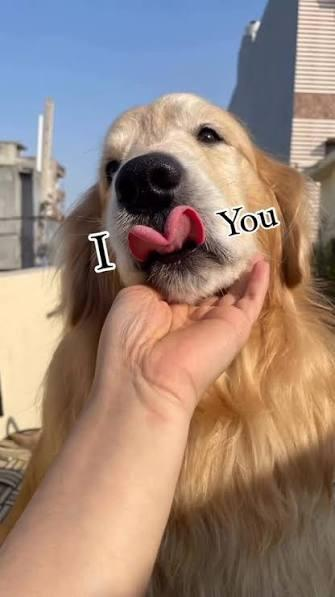adult_dog: (0, 90, 335, 596)
non-dog: (0, 253, 271, 597)
